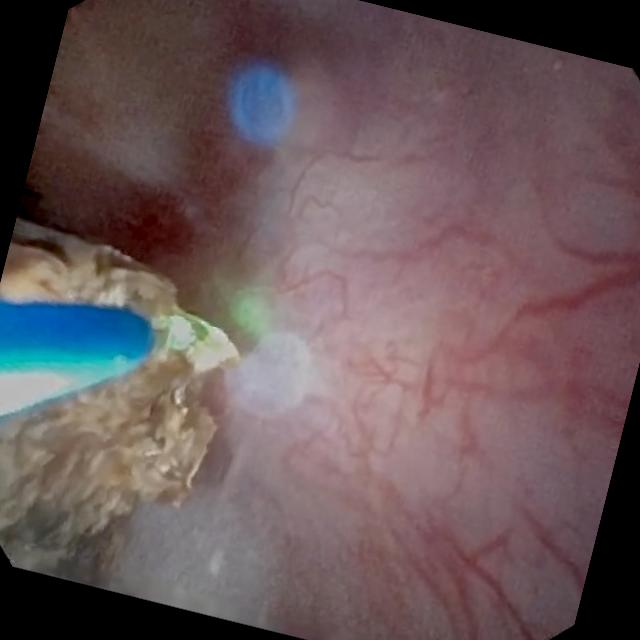laser-fibre: (152, 315, 193, 354)
laser_dot: (228, 291, 270, 339)
stone-new: (0, 218, 236, 576)
